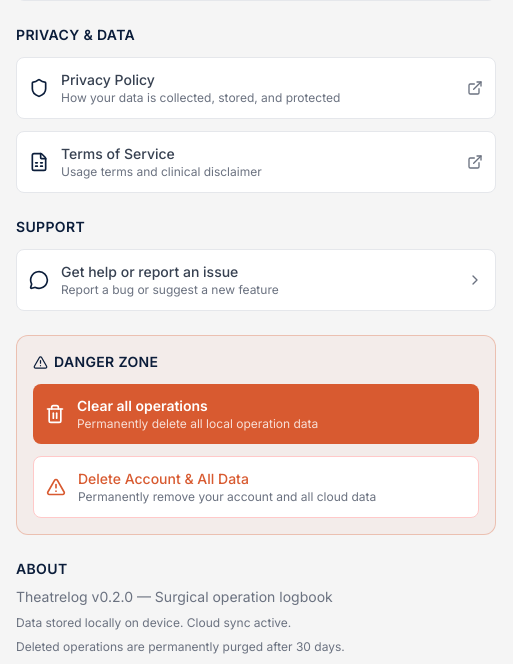
SettingsPage › can cancel delete account
(page scrolled)
Click the text "Delete Account & All Data".
click(163, 478)  # box [78, 470, 249, 487]
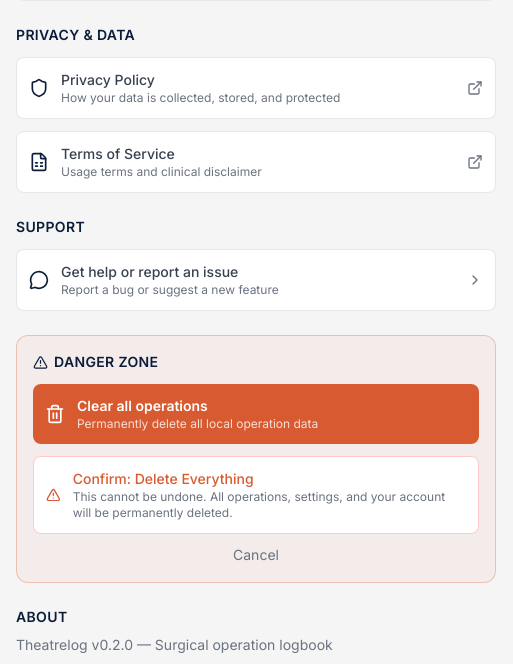
Click the button "Cancel".
click(256, 555)  # box [33, 545, 479, 565]
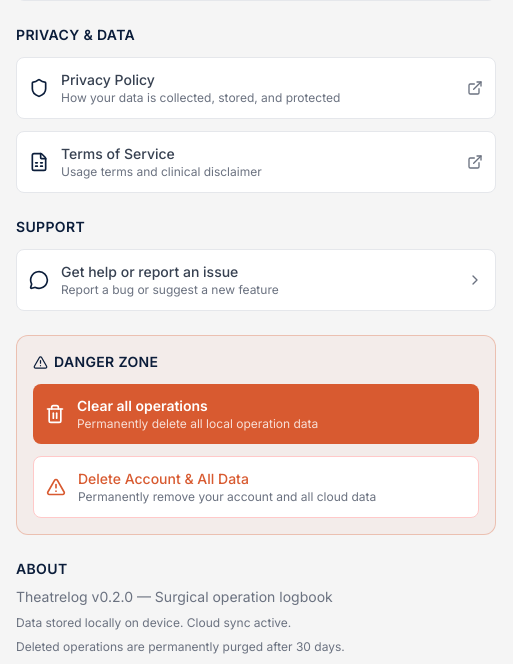
Now the text "Delete Account & All Data" is shown, box [78, 470, 249, 487]
